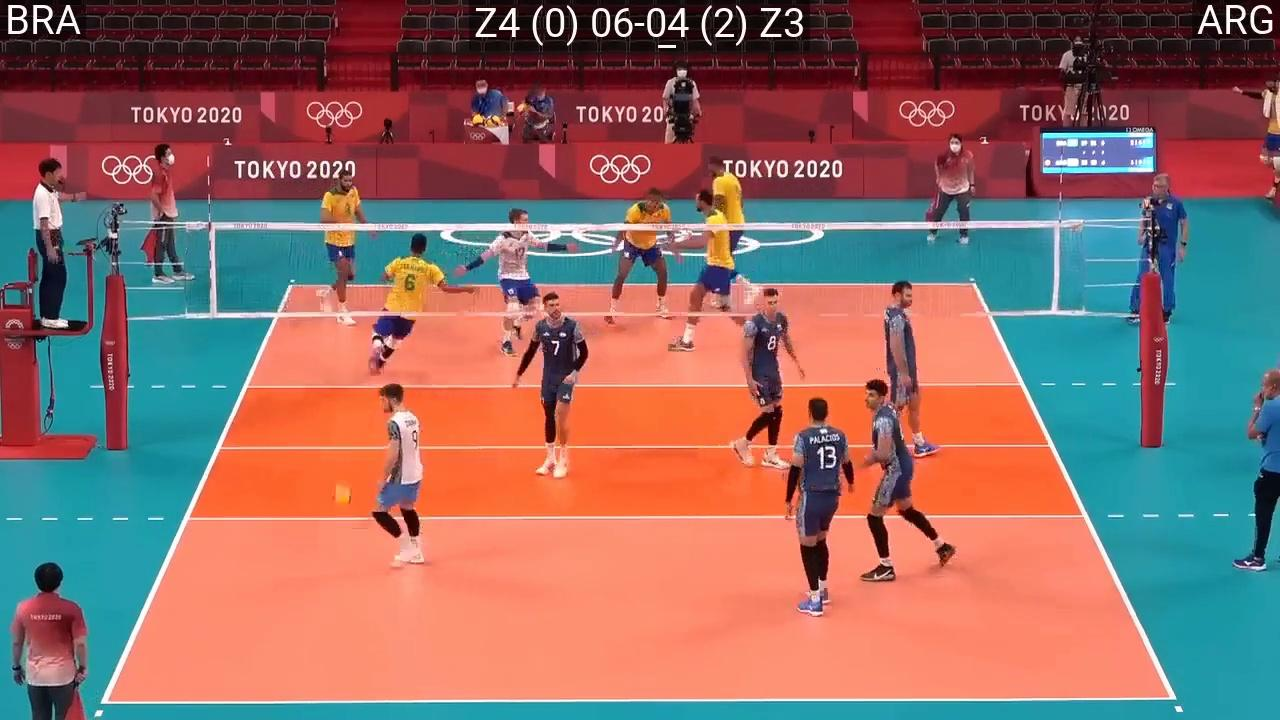ball: (329, 484, 354, 505)
